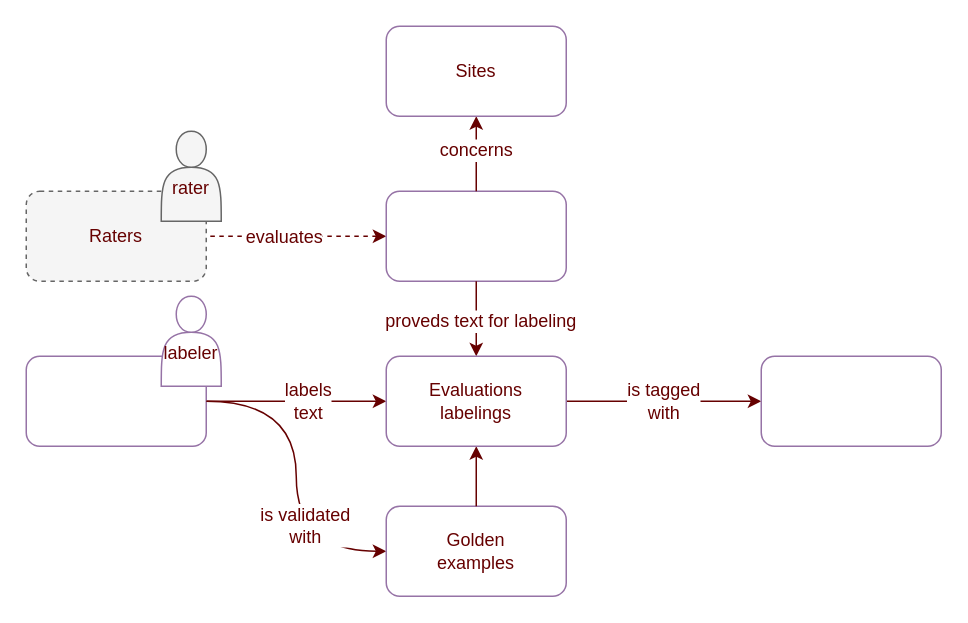
This 968x623 diagram has some shape labels left out. Each missing label, with the centre of its shape:
"Evaluations" goes at pixel 475 235.
"Labelers" goes at pixel 115 400.
"Tags" goes at pixel 850 400.
